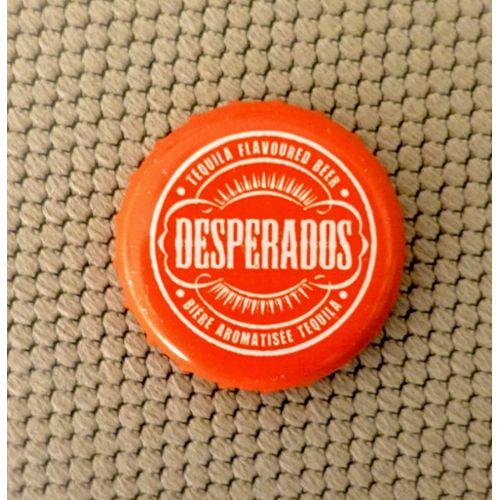metal: (114, 100, 406, 392)
